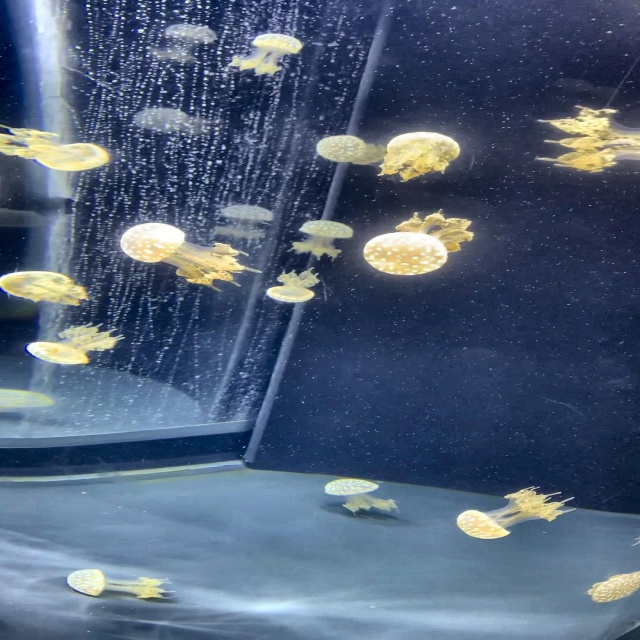jellyfish: (361, 230, 455, 278), (119, 222, 190, 266), (36, 138, 117, 175), (387, 128, 466, 163), (1, 271, 76, 306), (453, 508, 516, 543), (586, 567, 639, 604), (22, 340, 92, 368), (313, 132, 369, 166), (248, 30, 311, 58), (65, 567, 110, 599), (297, 220, 359, 242), (1, 387, 56, 411), (322, 477, 382, 498), (264, 285, 318, 305)
